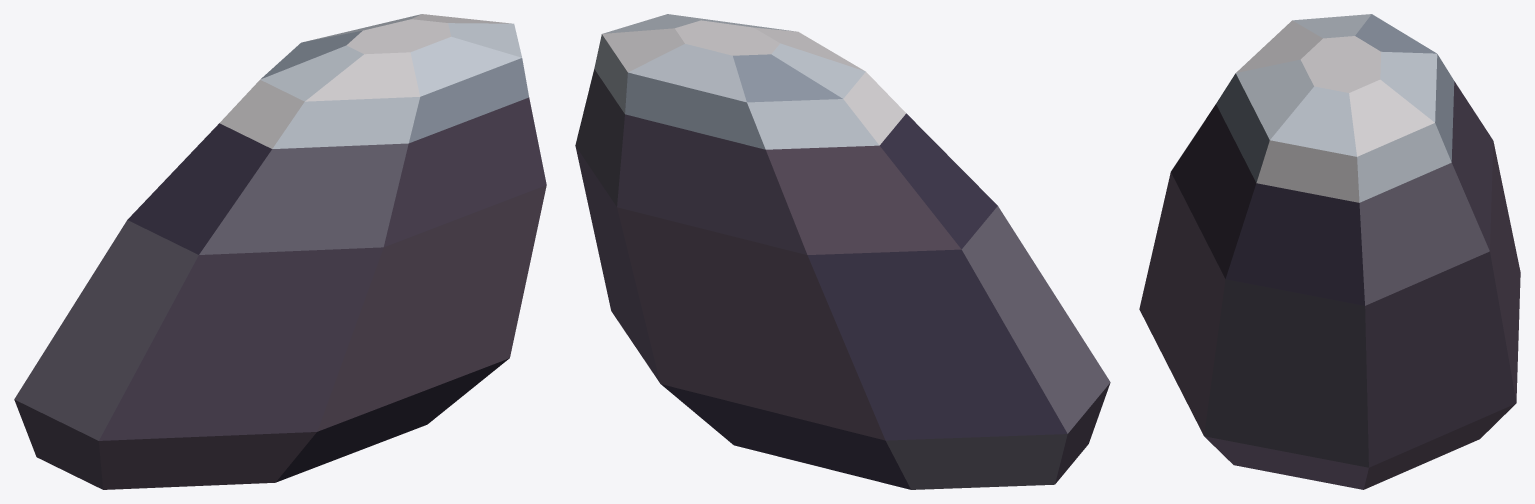
The model's file is strata.glb.
3 renders of one model, left to right at view 1: azimuth 30°, elevation 25°; view 2: azimuth 150°, elevation 25°; view 3: azimuth 270°, elevation 25°, orthographic. The views are drawn at different scales.
Parts seen in each view (by area): view 1: strata; view 2: strata; view 3: strata.
Boxes of the visible parts, bbox=[...] form: strata: bbox=[14, 14, 546, 489]; strata: bbox=[575, 14, 1110, 489]; strata: bbox=[1139, 14, 1520, 489].
Size of the model in its own units: 3.11 by 2.05 by 1.72.
